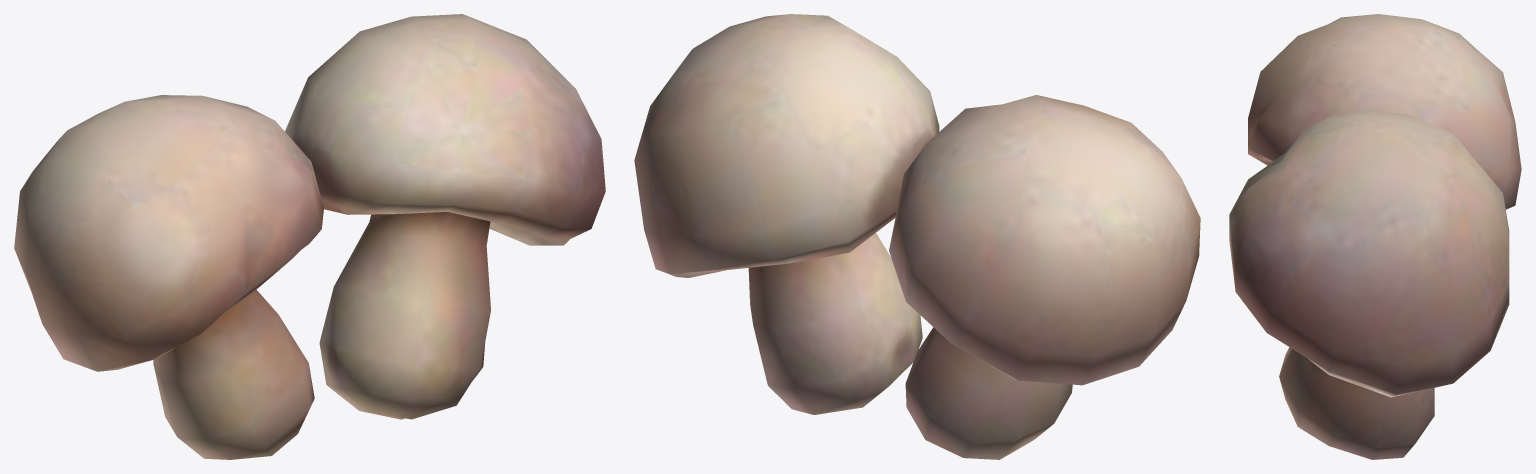
File: mushrooms.glb
The picture shows the model from 3 angles, left to right: view 1: azimuth 30°, elevation 25°; view 2: azimuth 150°, elevation 25°; view 3: azimuth 270°, elevation 25°; orthographic projection. The views are drawn at different scales.
Visible parts, largest first — view 1: Mushrooms; view 2: Mushrooms; view 3: Mushrooms.
Boxes of the visible parts, x1,y1,x2,y2 form: Mushrooms: (14,14,605,459); Mushrooms: (634,14,1200,459); Mushrooms: (1229,14,1521,459).
Size of the model in its own units: 2.01 by 1.36 by 1.05.
Materials: 1 (1 with a texture image).
